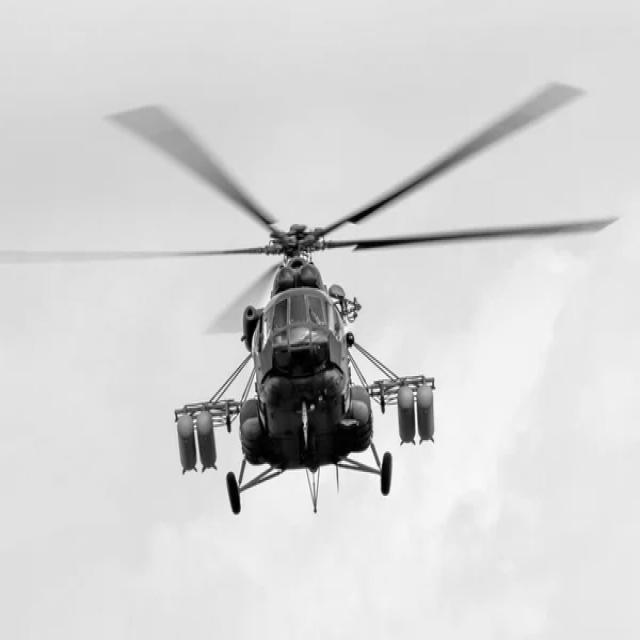Helicopter: (0, 83, 616, 514)
